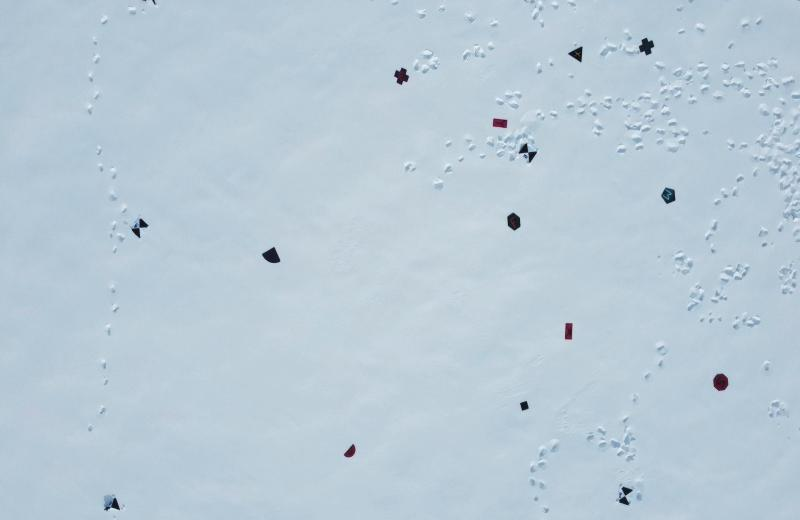Cross: (393, 67, 410, 86), (638, 37, 654, 57)
Hexagon: (507, 212, 521, 232)
Octagon: (712, 373, 728, 392)
Pentagon: (658, 187, 676, 205)
Quarter Circle: (262, 247, 280, 265)
Rectangle: (492, 116, 508, 134), (562, 322, 576, 342)
Semi Circle: (342, 442, 358, 458)
Square: (520, 400, 529, 412)
Triangle: (568, 45, 585, 64)
